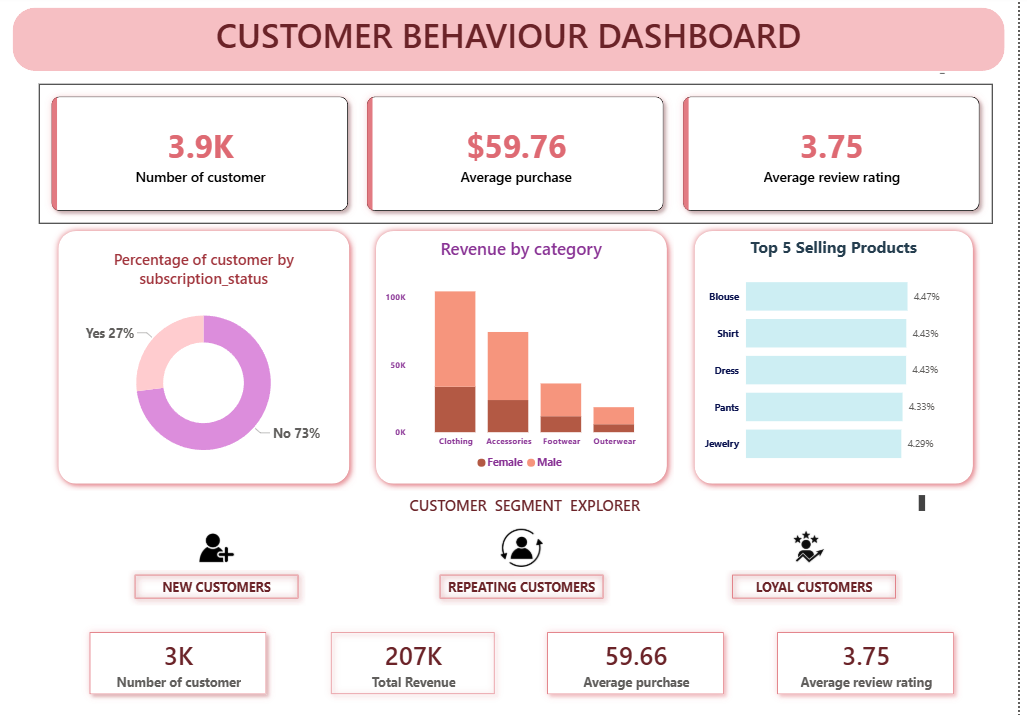

This screenshot's page, from the dashboard's own definition file:
{"tool":"powerbi","page":{"name":"Dashboard","canvas":[1280,910],"ordinal":0},"visuals":[{"type":"cardVisual","fields":{"Data":["customer_shopping_cleaned.Number of customer","customer_shopping_cleaned.Average purchase","customer_shopping_cleaned.Average review rating"]},"box":[48,112,1200,176],"z":0},{"type":"shape","box":[64,288,384,336],"z":0,"group":"g1"},{"type":"shape","box":[464,288,384,336],"z":0,"group":"g2"},{"type":"shape","box":[864,288,368,336],"z":0,"group":"g3"},{"type":"actionButton","box":[160,720,224,48],"z":0,"group":"g4"},{"type":"actionButton","box":[544,720,224,48],"z":0,"group":"g5"},{"type":"actionButton","box":[912,720,224,48],"z":0,"group":"g6"},{"type":"shape","box":[16,16,1248,80],"z":1000},{"type":"columnChart","title":"Revenue by category","fields":{"Category":["customer_shopping_cleaned.category"],"Y":["Sum(customer_shopping_cleaned.purchase_amount)"],"Series":["customer_shopping_cleaned.gender"]},"box":[480,304,352,304],"z":1000,"group":"g2"},{"type":"clusteredBarChart","title":"Top 5  Selling Products","fields":{"Category":["customer_shopping_cleaned.item_purchased"],"Y":["customer_shopping_cleaned.Revenue Contribution %"]},"box":[880,304,336,304],"z":1000,"group":"g3"},{"type":"donutChart","title":"Percentage of customer by subscription_status","fields":{"Category":["customer_shopping_cleaned.subscription_status"],"Y":["Count(customer_shopping_cleaned.customer_id)"]},"box":[80,320,352,288],"z":1000,"group":"g1"},{"type":"image","box":[240,672,64,48],"z":1000,"group":"g4"},{"type":"image","box":[624,672,64,48],"z":1000,"group":"g5"},{"type":"image","box":[960,672,112,48],"z":1000,"group":"g6"},{"type":"textbox","box":[112,16,1056,80],"z":2000},{"type":"group","id":"g1","title":"Group 1","box":[64,288,384,336],"z":3000},{"type":"group","id":"g2","title":"Group 2","box":[464,288,384,336],"z":4000},{"type":"group","id":"g3","title":"Group 3","box":[864,288,368,336],"z":5000},{"type":"group","id":"g4","title":"bn","box":[160,672,224,96],"z":6000},{"type":"group","id":"g5","title":"br","box":[544,672,224,96],"z":7000},{"type":"group","id":"g6","title":"bl","box":[912,672,224,96],"z":8000},{"type":"cardVisual","title":"loyal","fields":{"Data":["customer_shopping_cleaned.Number of customer"]},"box":[96,784,256,112],"z":17000},{"type":"cardVisual","title":"loyal_re","fields":{"Data":["customer_shopping_cleaned.Total Revenue"]},"box":[400,784,240,112],"z":18000},{"type":"cardVisual","title":"loyal_spent","fields":{"Data":["customer_shopping_cleaned.Average purchase"]},"box":[672,784,256,112],"z":19000},{"type":"cardVisual","title":"loyal_rat","fields":{"Data":["customer_shopping_cleaned.Average review rating"]},"box":[960,784,256,112],"z":20000},{"type":"textbox","box":[160,624,1008,32],"z":21000}]}

Visuals, with their boxes in screenshot pixels (x1, y1, x2, y2), scaled from the page's 1280x910 canvas onto the 1027x717 screenshot:
cardVisual - customer_shopping_cleaned.Number of customer x customer_shopping_cleaned.Average purchase: BBox(39, 88, 1001, 227)
shape: BBox(51, 227, 359, 492)
shape: BBox(372, 227, 680, 492)
shape: BBox(693, 227, 988, 492)
actionButton: BBox(128, 567, 308, 605)
actionButton: BBox(436, 567, 616, 605)
actionButton: BBox(732, 567, 911, 605)
shape: BBox(13, 13, 1014, 76)
"Revenue by category" columnChart: BBox(385, 240, 668, 479)
"Top 5  Selling Products" clusteredBarChart: BBox(706, 240, 976, 479)
"Percentage of customer by subscription_status" donutChart: BBox(64, 252, 347, 479)
image: BBox(193, 529, 244, 567)
image: BBox(501, 529, 552, 567)
image: BBox(770, 529, 860, 567)
textbox: BBox(90, 13, 937, 76)
"Group 1" group: BBox(51, 227, 359, 492)
"Group 2" group: BBox(372, 227, 680, 492)
"Group 3" group: BBox(693, 227, 988, 492)
"bn" group: BBox(128, 529, 308, 605)
"br" group: BBox(436, 529, 616, 605)
"bl" group: BBox(732, 529, 911, 605)
"loyal" cardVisual: BBox(77, 618, 282, 706)
"loyal_re" cardVisual: BBox(321, 618, 514, 706)
"loyal_spent" cardVisual: BBox(539, 618, 745, 706)
"loyal_rat" cardVisual: BBox(770, 618, 976, 706)
textbox: BBox(128, 492, 937, 517)
